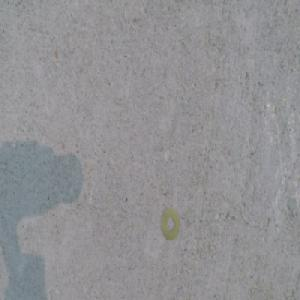Washer: (159, 207, 180, 241)
